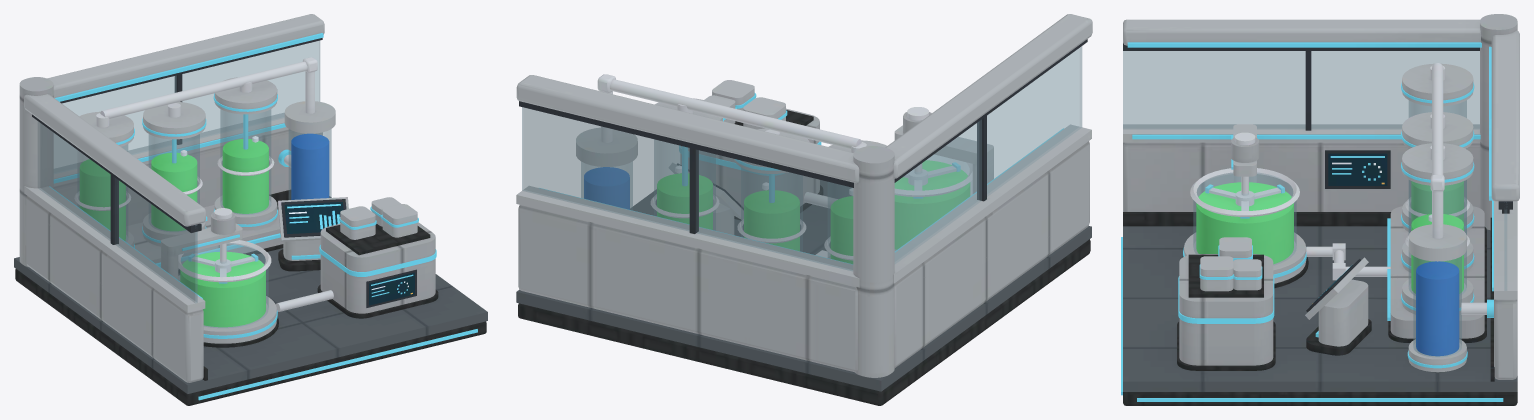
The model's file is protein_synthesizer.glb.
The picture shows the model from 3 angles, left to right: view 1: azimuth 30°, elevation 25°; view 2: azimuth 150°, elevation 25°; view 3: azimuth 270°, elevation 25°; orthographic projection. The views are drawn at different scales.
Parts seen in each view (by area): view 1: te_protein_synthesizer, move_rotor; view 2: te_protein_synthesizer, move_rotor; view 3: te_protein_synthesizer, move_rotor.
Boxes of the visible parts, left/top/right/bottom form: te_protein_synthesizer: left=14, top=14, right=487, bottom=405; move_rotor: left=188, top=243, right=258, bottom=283; te_protein_synthesizer: left=516, top=14, right=1092, bottom=405; move_rotor: left=904, top=162, right=960, bottom=198; te_protein_synthesizer: left=1121, top=14, right=1519, bottom=405; move_rotor: left=1205, top=176, right=1284, bottom=218.
Size of the model in its own units: 0.849 by 0.532 by 0.849.
Materials: 2 (1 with a texture image).
